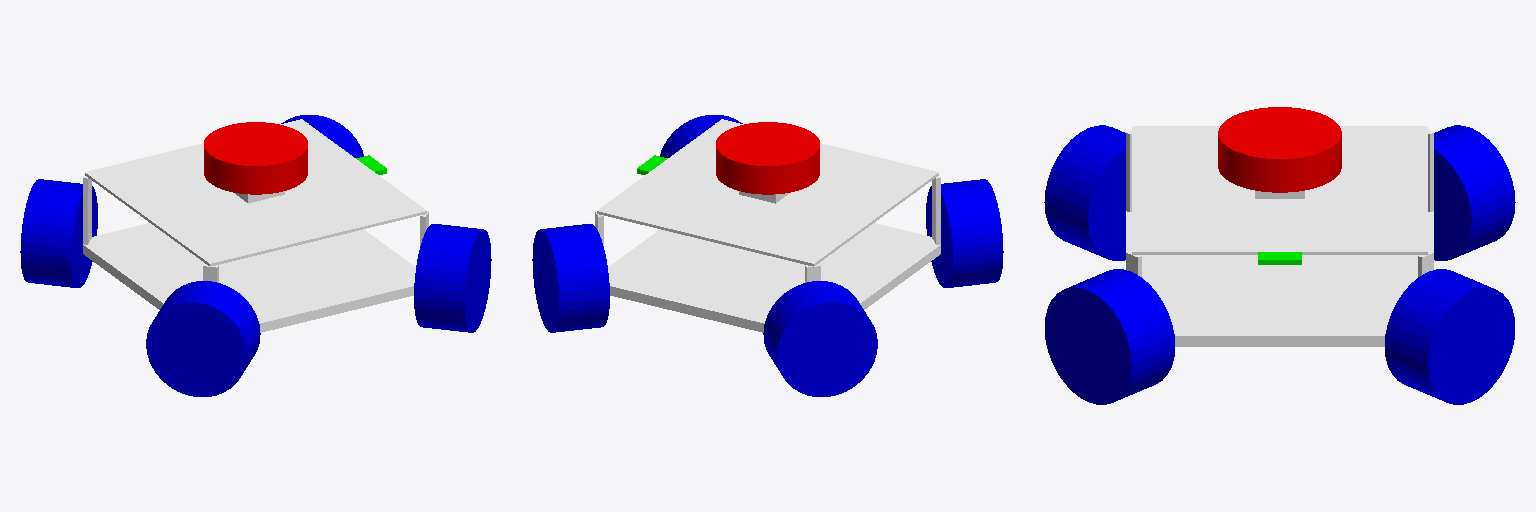
URDF robot description (roboto):
<?xml version="1.0" ?>

<robot name="roboto">
  <link name="base_link"/>
  <joint name="base_footprint_joint" type="fixed">
    <parent link="base_link"/>
    <child link="base_footprint"/>
    <origin rpy="0.0 0 0" xyz="0 0 0"/>
  </joint>
  <link name="base_footprint"/>
  <joint name="base_link_to_base" type="fixed">
    <parent link="base_link"/>
    <child link="body"/>
    <origin rpy="0.0 0 0" xyz="0 0 0"/>
  </joint>
  <link name="body">
    <visual>
      <origin rpy="0 -0 0" xyz="0.12499999999999995837 -0.12500000000000002776 1.3877787807814456755e-17"/>
      <geometry>
        <mesh filename="package://roboto/robot_description/rviz_bot/chassi/support.stl"/>
      </geometry>
      <material name="body-material">
        <color rgba="1 1 1 1 "/>
      </material>
    </visual>
    <collision>
      <origin rpy="0 0 0" xyz="0.12499999999999995837 -0.12500000000000002776 1.3877787807814456755e-17"/>
      <geometry>
        <mesh filename="package://roboto/robot_description/rviz_bot/chassi/support.stl"/>
      </geometry>
    </collision>
    <visual>
      <origin rpy="0 0 0" xyz="0.12499999999999998612 -0.12500000000000002776 0"/>
      <geometry>
        <mesh filename="package://roboto/robot_description/rviz_bot/chassi/body.stl"/>
      </geometry>
      <material name="body_material">
        <color rgba="1 1 1 1 "/>
      </material>
    </visual>
    <collision>
      <origin rpy="0 0 0" xyz="0.12499999999999998612 -0.12500000000000002776 0"/>
      <geometry>
        <mesh filename="package://roboto/robot_description/rviz_bot/chassi/body.stl"/>
      </geometry>
    </collision>
    <inertial>
      <origin rpy="0 0 0" xyz="7.5852948383348459831e-18 -3.1462464847398053861e-18 0.032701962545988359776"/>
      <mass value="2.4836529330259353721"/>
      <inertia ixx="0.01624744761710187127" ixy="-3.8460366714088691554e-34" ixz="1.2863509869914569804e-18" iyy="0.01624744761710187127" iyz="6.431754934957284902e-19" izz="0.023711533526485202572"/>
    </inertial>
  </link>
  <joint name="body_to_front" type="fixed">
    <parent link="body"/>
    <child link="front"/>
    <origin rpy="0.0 0 0" xyz="0.12 0 0.0803"/>
  </joint>
  <link name="front">
    <visual>
      <origin rpy="0 0 0" xyz="0.0 0 0 "/>
      <geometry>
        <box size="0.03 0.035 0.005"/>
      </geometry>
      <material name="front_material">
        <color rgba="0 1 0 1"/>
      </material>
    </visual>
    <collision>
      <origin rpy="0 0 0" xyz="0 0 0 "/>
      <geometry>
        <box size="0.03 0.035 0.005"/>
      </geometry>
    </collision>
  </link>
  <link name="wheel_2_link">
    <visual>
      <origin rpy="0 0 0" xyz="0 0 -0.025"/>
      <geometry>
        <cylinder length="0.05" radius="0.05"/>
        
      </geometry>
      <material name="blue">
        <color rgba="0.0 0.0 1.0 1.0"/>
      </material>
    </visual>
    <collision>
      <origin rpy="0 0 0" xyz="0 0 -0.025"/>
      <geometry>
        <cylinder length="0.05" radius="0.05"/>
      </geometry>
    </collision>
    <inertial>
      <mass value="1.0"/>
      <inertia ixx="0.005" ixy="0.0" ixz="0.0" iyy="0.005" iyz="0.0" izz="0.005"/>
    </inertial>
  </link>
  <joint name="wheel_2_joint" type="continuous">
    <parent link="body"/>
    <child link="wheel_2_link"/>
    <origin rpy="1.5707963267948966 0 -0.7853981633974483" xyz="0.12 0.12 0.015"/>
    <axis xyz=" 0 0 1"/>
    
  </joint>
  <link name="wheel_1_link">
    <visual>
      <origin rpy="0 0 0" xyz="0 0 -0.025"/>
      <geometry>
        <cylinder length="0.05" radius="0.05"/>
        
      </geometry>
      <material name="blue">
        <color rgba="0.0 0.0 1.0 1.0"/>
      </material>
    </visual>
    <collision>
      <origin rpy="0 0 0" xyz="0 0 -0.025"/>
      <geometry>
        <cylinder length="0.05" radius="0.05"/>
      </geometry>
    </collision>
    <inertial>
      <mass value="1.0"/>
      <inertia ixx="0.005" ixy="0.0" ixz="0.0" iyy="0.005" iyz="0.0" izz="0.005"/>
    </inertial>
  </link>
  <joint name="wheel_1_joint" type="continuous">
    <parent link="body"/>
    <child link="wheel_1_link"/>
    <origin rpy="1.5707963267948966  0 -2.356194490192345" xyz="0.12 -0.12 0.015"/>
    <axis xyz=" 0 0 1"/>
    
  </joint>
  <link name="wheel_4_link">
    <visual>
      <origin rpy="0 0 0" xyz="0 0 -0.025"/>
      <geometry>
        <cylinder length="0.05" radius="0.05"/>
        
      </geometry>
      <material name="blue">
        <color rgba="0.0 0.0 1.0 1.0"/>
      </material>
    </visual>
    <collision>
      <origin rpy="0 0 0" xyz="0 0 -0.025"/>
      <geometry>
        <cylinder length="0.05" radius="0.05"/>
      </geometry>
    </collision>
    <inertial>
      <mass value="1.0"/>
      <inertia ixx="0.005" ixy="0.0" ixz="0.0" iyy="0.005" iyz="0.0" izz="0.005"/>
    </inertial>
  </link>
  <joint name="wheel_4_joint" type="continuous">
    <parent link="body"/>
    <child link="wheel_4_link"/>
    <origin rpy="1.5707963267948966  0  2.356194490192345" xyz="-0.12 -0.12 0.015"/>
    <axis xyz=" 0 0 1"/>
    
  </joint>
  <link name="wheel_3_link">
    <visual>
      <origin rpy="0 0 0" xyz="0 0 -0.025"/>
      <geometry>
        <cylinder length="0.05" radius="0.05"/>
        
      </geometry>
      <material name="blue">
        <color rgba="0.0 0.0 1.0 1.0"/>
      </material>
    </visual>
    <collision>
      <origin rpy="0 0 0" xyz="0 0 -0.025"/>
      <geometry>
        <cylinder length="0.05" radius="0.05"/>
      </geometry>
    </collision>
    <inertial>
      <mass value="1.0"/>
      <inertia ixx="0.005" ixy="0.0" ixz="0.0" iyy="0.005" iyz="0.0" izz="0.005"/>
    </inertial>
  </link>
  <joint name="wheel_3_joint" type="continuous">
    <parent link="body"/>
    <child link="wheel_3_link"/>
    <origin rpy="1.5707963267948966  0 0.7853981633974483" xyz="-0.12 0.12 0.015"/>
    <axis xyz=" 0 0 1"/>
    
  </joint>
  <joint name="laser_lidar" type="fixed">
    <parent link="body"/>
    <child link="lidar"/>
    <origin rpy="0 -0 0" xyz="0 0 0.103 "/>
  </joint>
  <link name="lidar">
    <visual>
      <origin rpy="0 0 0" xyz="0.12499999999999995837 -0.12389012757796005748 -0.103"/>
      <geometry>
        <mesh filename="package://roboto/robot_description/rviz_bot/chassi/lidar.stl"/>
      </geometry>
      <material name="lidar_material">
        <color rgba="1 0 0 1.0"/>
      </material>
    </visual>
    <collision>
      <origin rpy="0 0 0" xyz="0.12499999999999995837 -0.12389012757796005748 -0.103"/>
      <geometry>
        <mesh filename="package://roboto/robot_description/rviz_bot/chassi/lidar.stl"/>
      </geometry>
    </collision>
    <inertial>
      <mass value="0.1"/>
      <inertia ixx="0.005" ixy="0.0" ixz="0.0" iyy="0.005" iyz="0.0" izz="0.005"/>
    </inertial>
  </link>
</robot>

--- Facts derived from the render (not from the file) ---
The picture shows the robot from 3 angles, left to right: view 1: azimuth 30°, elevation 25°; view 2: azimuth 150°, elevation 25°; view 3: azimuth 270°, elevation 25°; orthographic projection.
Model roboto with 9 links and 8 joints (4 continuous, 4 fixed), rooted at base_link, posed every joint at zero.
Links seen in each view (by area): view 1: body, wheel_4_link, wheel_1_link, lidar, wheel_3_link, wheel_2_link; view 2: body, wheel_3_link, wheel_2_link, lidar, wheel_4_link, wheel_1_link; view 3: body, wheel_2_link, wheel_1_link, lidar, wheel_4_link, wheel_3_link, front.
Link boxes in pixels (x1,y1,x2,y2): body: (83,119,428,332); wheel_4_link: (146,281,260,396); wheel_1_link: (414,224,491,332); lidar: (204,122,307,194); wheel_3_link: (20,179,97,287); wheel_2_link: (281,115,363,157); body: (595,119,940,332); wheel_3_link: (763,281,877,396); wheel_2_link: (532,224,609,332); lidar: (716,122,819,194); wheel_4_link: (926,179,1003,287); wheel_1_link: (660,115,742,157); body: (1126,126,1433,346); wheel_2_link: (1385,269,1514,404); wheel_1_link: (1045,269,1174,404); lidar: (1218,107,1341,192); wheel_4_link: (1044,125,1125,260); wheel_3_link: (1434,125,1515,260); front: (1258,252,1301,264).
Size in the robot's own frame: 0.3814 by 0.3814 by 0.168 metres.
Meshes: 3 distinct files referenced, 3 mesh visuals loaded (3 binary STL).
